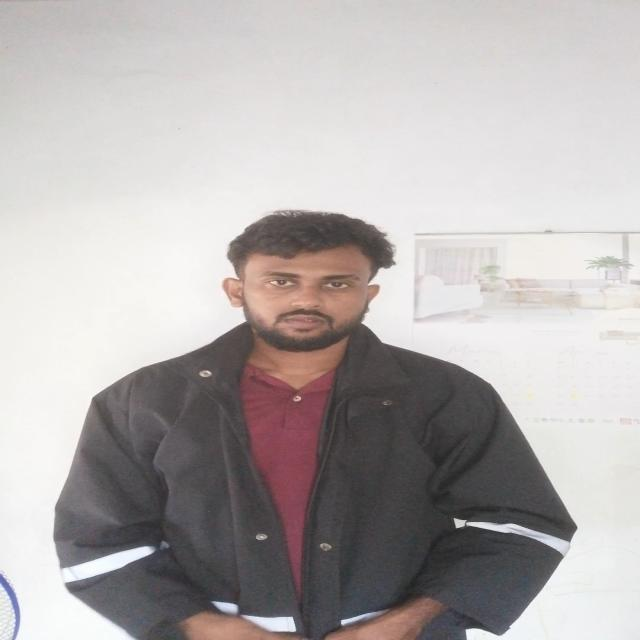Jacket_Wearer: (54, 312, 574, 640)
